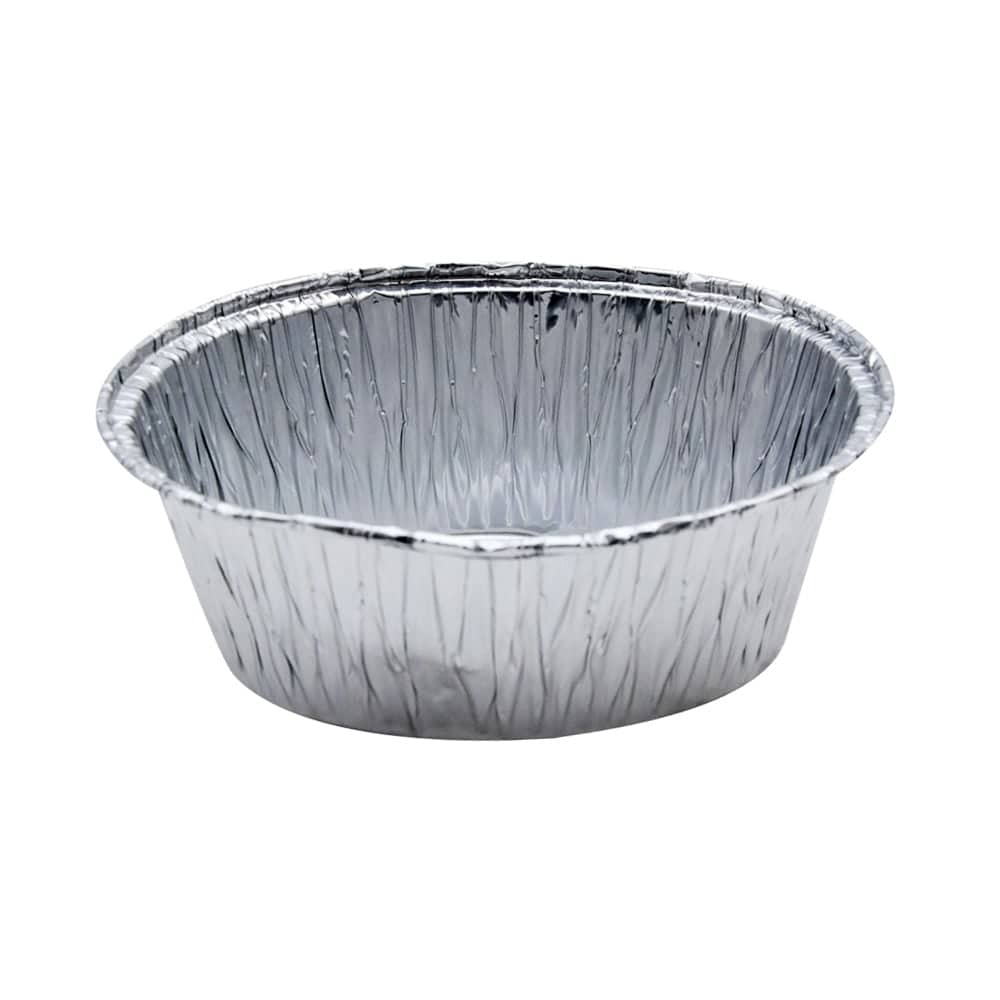metal: (97, 261, 897, 745)
